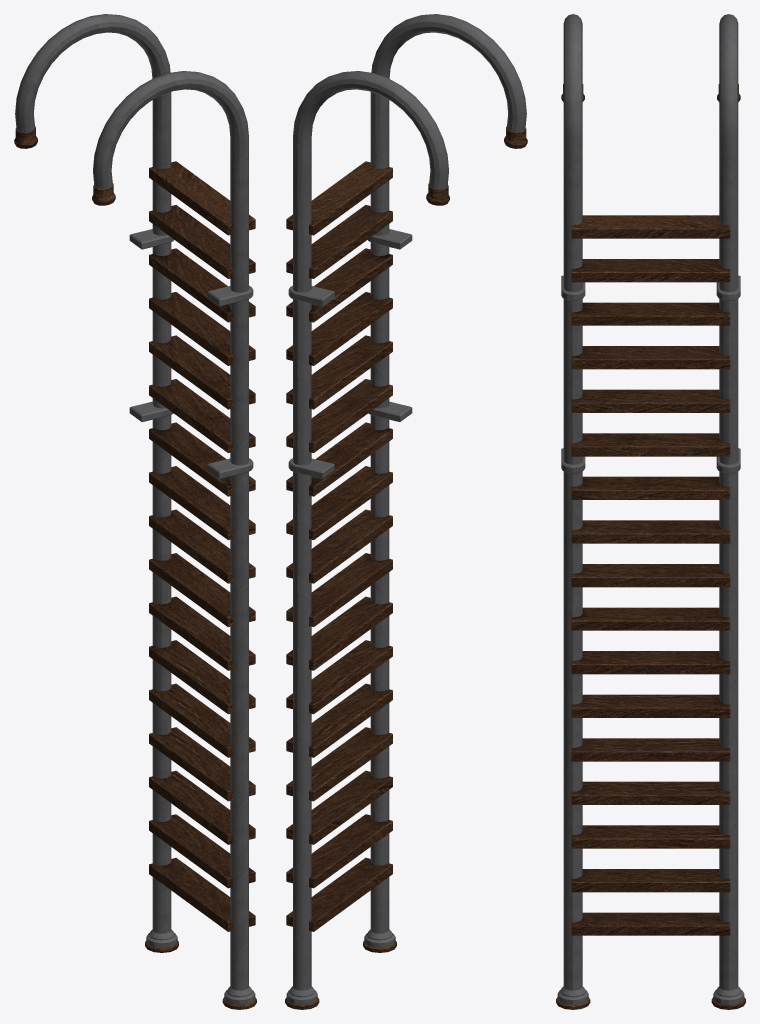
File: vintage_industrial_ladder.glb
The picture shows the model from 3 angles, left to right: view 1: azimuth 30°, elevation 25°; view 2: azimuth 150°, elevation 25°; view 3: azimuth 270°, elevation 25°; orthographic projection.
Visible parts, largest first — view 1: Leiter_0; view 2: Leiter_0; view 3: Leiter_0.
Part boxes in pixels (<box>): Leiter_0: <box>14,14,256,1009</box>; Leiter_0: <box>285,14,527,1009</box>; Leiter_0: <box>556,14,745,1009</box>.
Size of the model in its own units: 1.27 by 7.08 by 1.29.
1 material, 1 textured.
